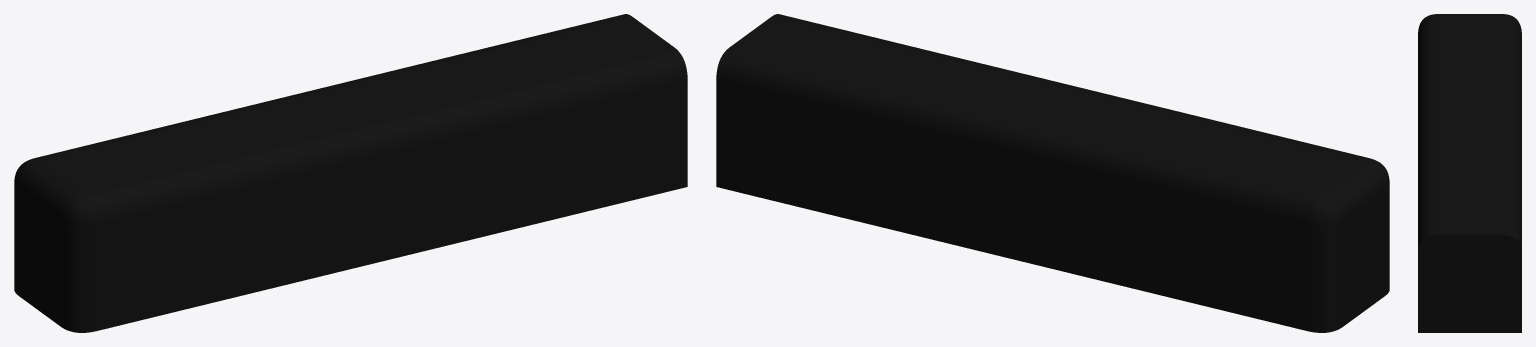
The model's file is piano_black_key.obj.
3 views of the same model, side by side, from view 1: azimuth 30°, elevation 25°; view 2: azimuth 150°, elevation 25°; view 3: azimuth 270°, elevation 25° (orthographic). The views are drawn at different scales.
Visible parts, largest first — view 1: BabyGrandPiano1.013_BabyGrandPiano1.199; view 2: BabyGrandPiano1.013_BabyGrandPiano1.199; view 3: BabyGrandPiano1.013_BabyGrandPiano1.199.
Part boxes in pixels (x1,y1,x2,y2): BabyGrandPiano1.013_BabyGrandPiano1.199: (14, 14, 687, 332); BabyGrandPiano1.013_BabyGrandPiano1.199: (716, 14, 1389, 332); BabyGrandPiano1.013_BabyGrandPiano1.199: (1418, 14, 1521, 332).
Size of the model in its own units: 3.35 by 0.6772 by 0.6497.
Materials: 1 (1 with a texture image).
